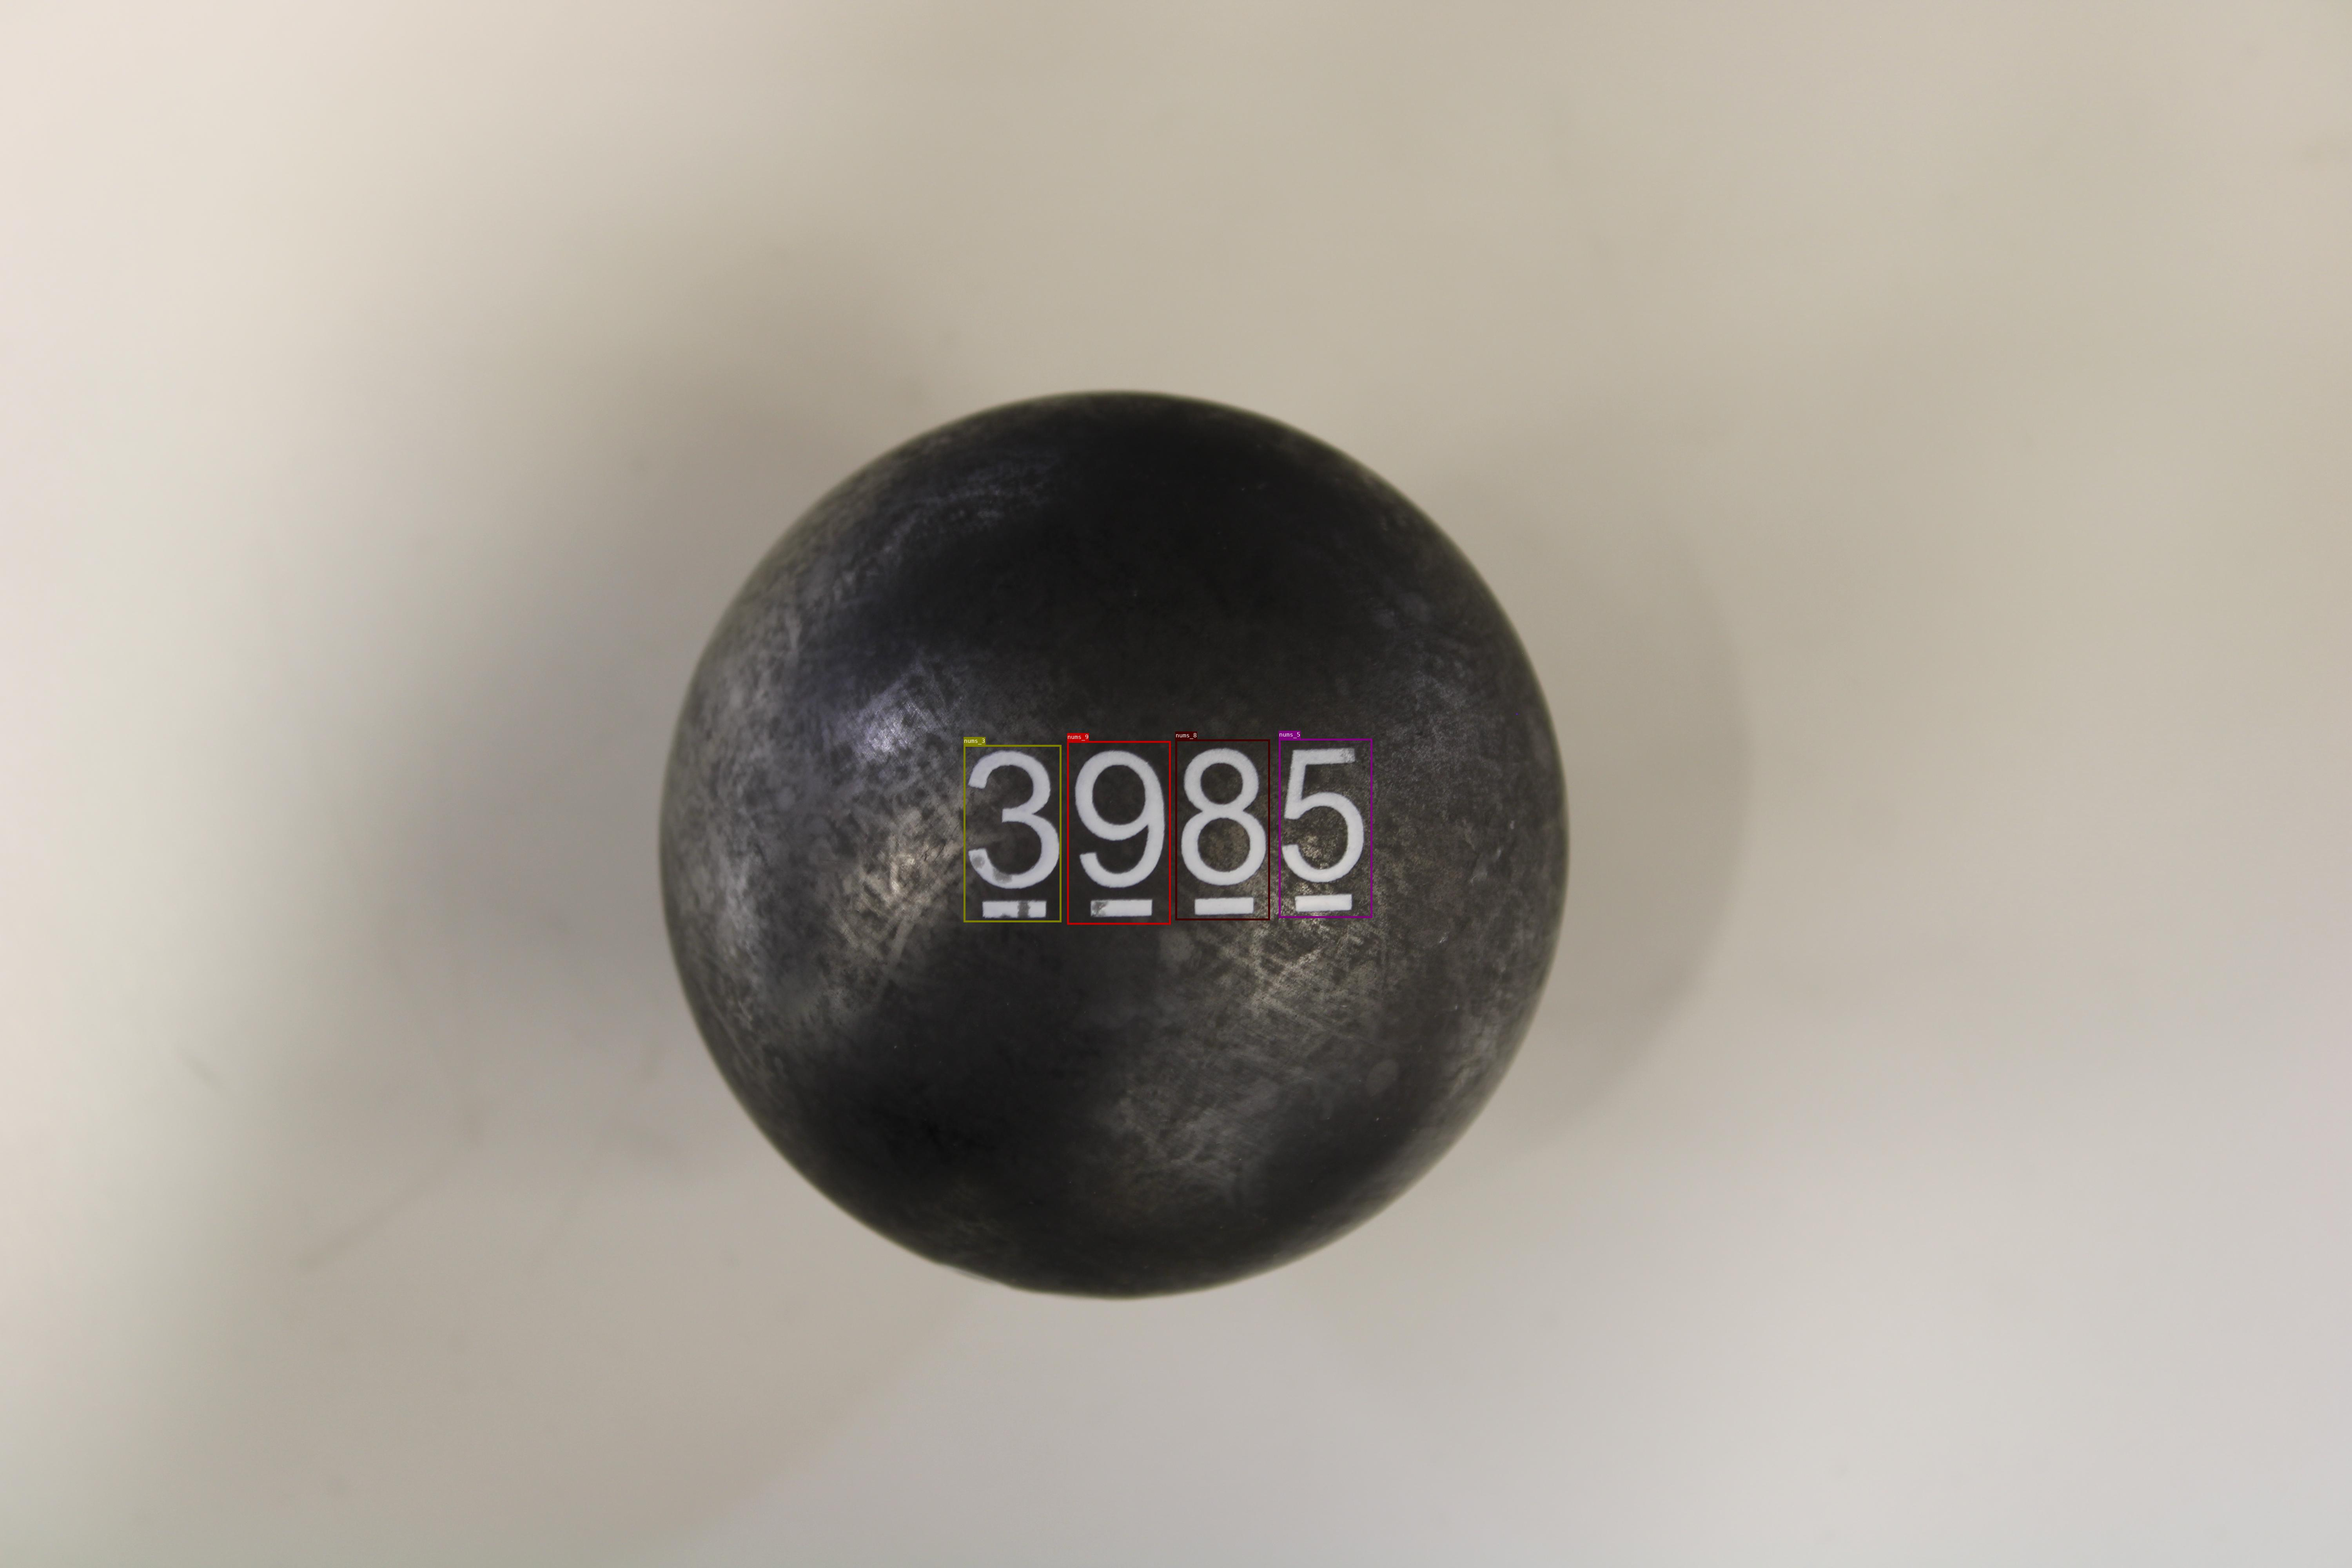nums_3: (964, 746, 1061, 922)
nums_5: (1279, 739, 1372, 917)
nums_8: (1176, 739, 1270, 921)
nums_9: (1067, 740, 1171, 924)
